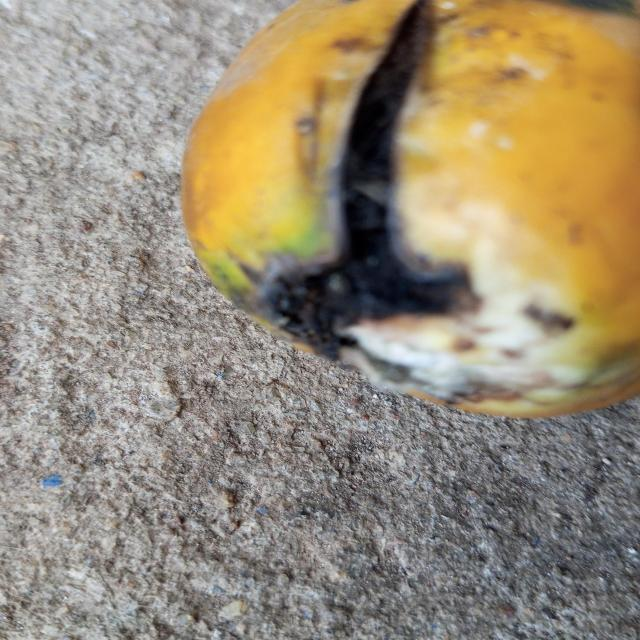damaged: (180, 0, 640, 422)
